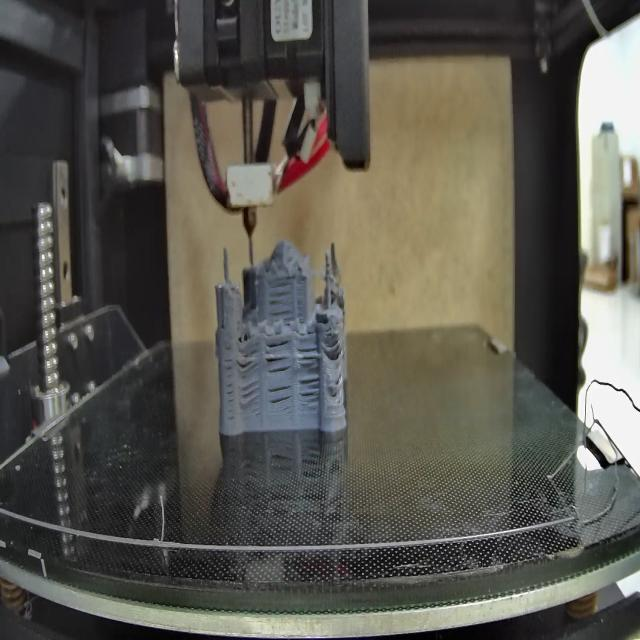cracks: (296, 338, 321, 408), (267, 276, 296, 320), (263, 332, 292, 374), (236, 339, 260, 369), (325, 328, 345, 364), (240, 376, 260, 408), (326, 370, 346, 402), (267, 383, 292, 408), (225, 344, 233, 413)
